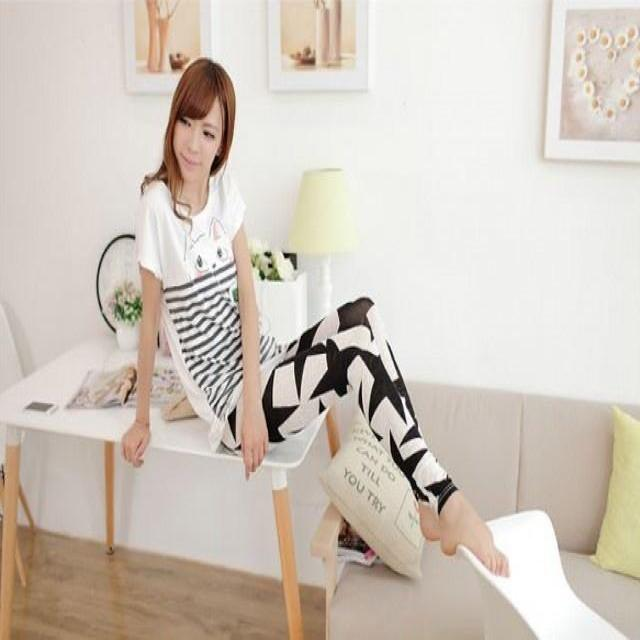short sleeve top: (137, 177, 287, 453)
trousers: (208, 300, 406, 468)
